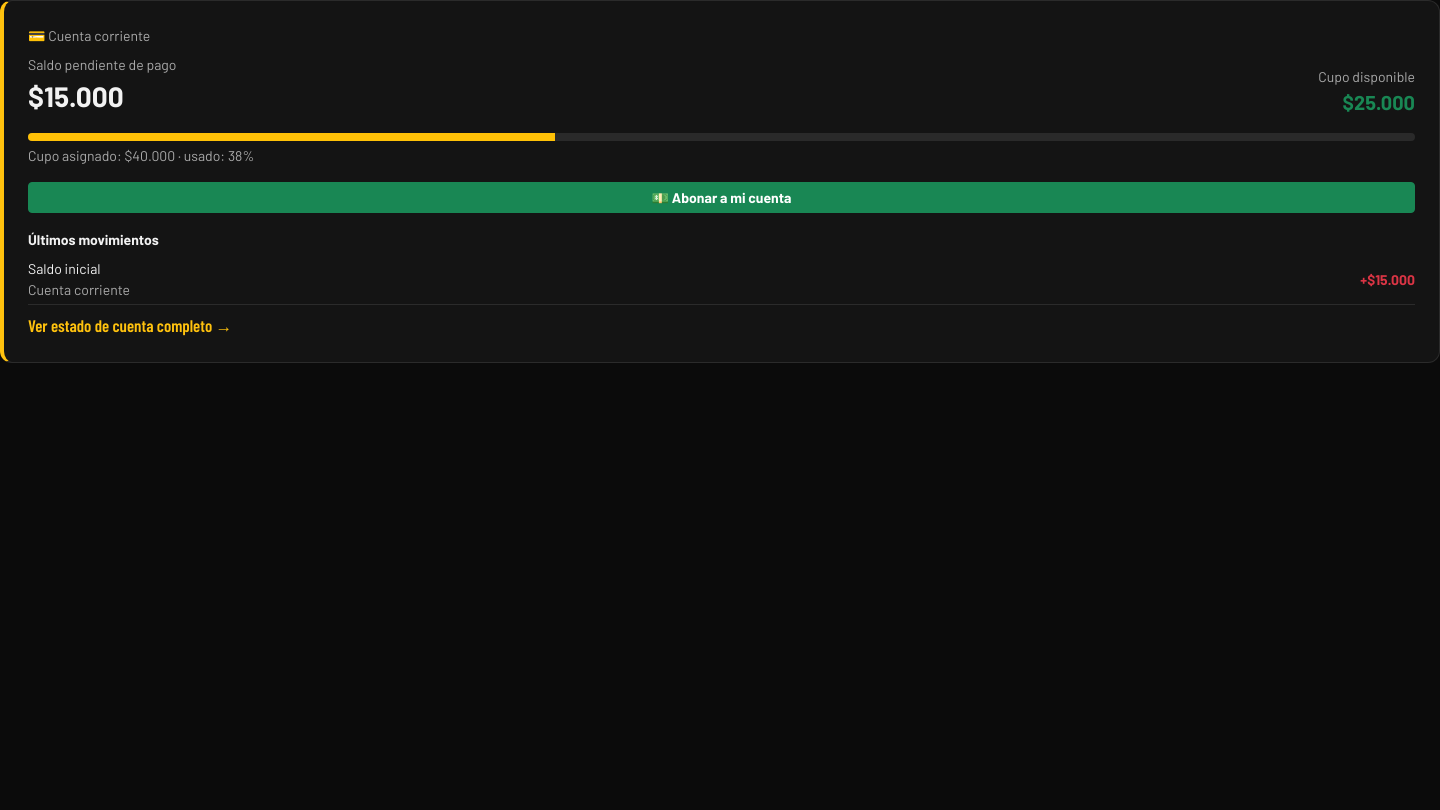
it: Componente CuentaCorriente (abonos del cliente) › el botón Abonar abre la ventana del abono (estado)
Click the button with id "btn-abonar".
click(722, 198)  # box [28,182,1415,213]
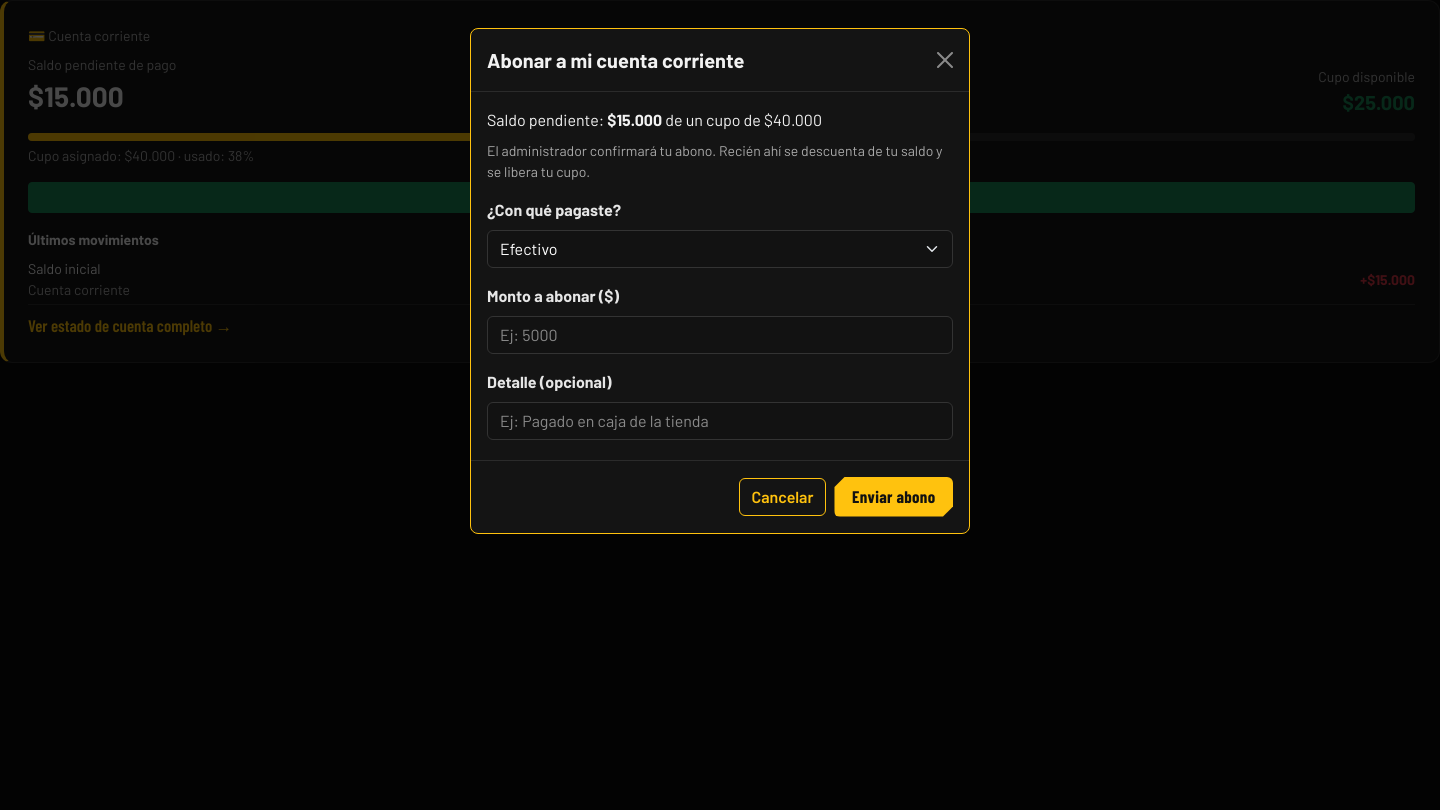
Now the dialog with class "modal" is shown
